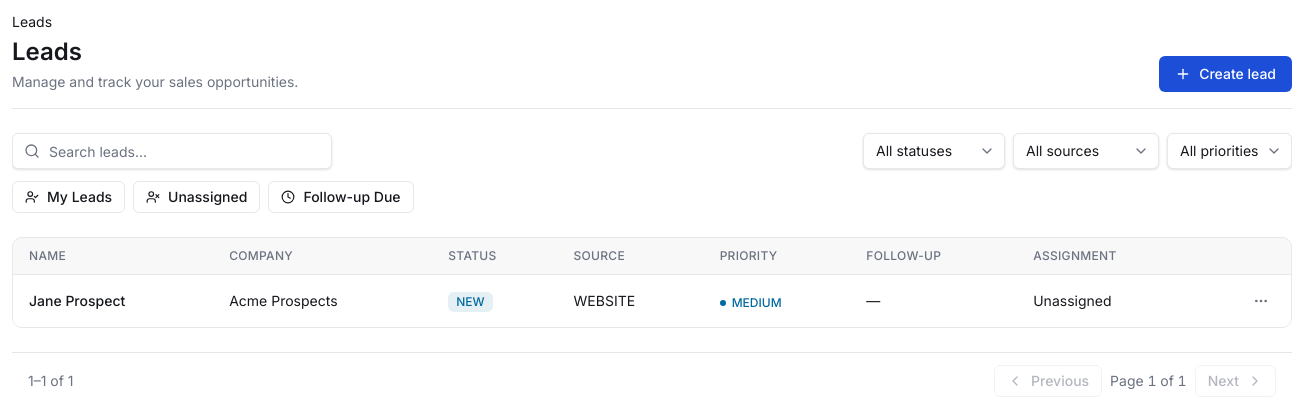
Test: LeadsListPage RBAC visibility › SALES sees Create lead and Edit, but not Archive
Check: the link "Jane Prospect" is shown, box top-left (29, 292), bottom-right (125, 309)
Check: the button "Create lead" is shown, box top-left (1159, 56), bottom-right (1292, 92)
Click the button named "Actions for Jane Prospect" at (1261, 301), box top-left (1247, 287), bottom-right (1275, 315)
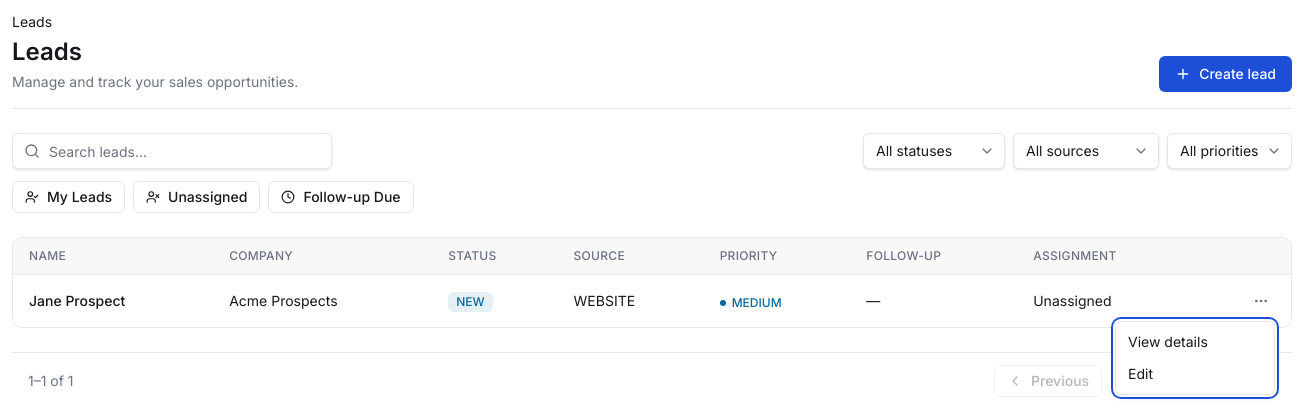
Check: the menu item "Edit" is shown, box top-left (1128, 365), bottom-right (1153, 382)
